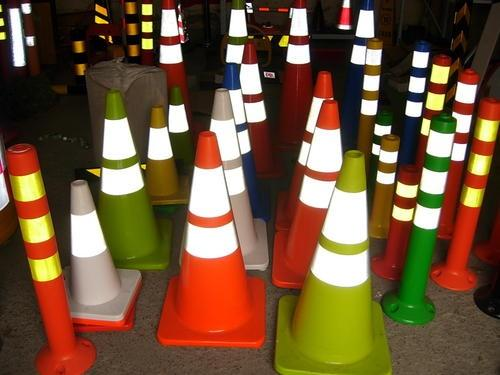cone_barrel: (162, 131, 258, 344), (290, 150, 380, 371), (5, 146, 89, 373), (390, 114, 456, 313), (195, 86, 264, 269), (279, 97, 344, 289), (96, 96, 160, 268), (441, 97, 498, 275), (65, 176, 124, 312), (274, 0, 313, 145), (149, 4, 194, 108), (238, 42, 274, 170), (143, 104, 179, 200), (219, 1, 250, 78), (334, 0, 353, 30)
